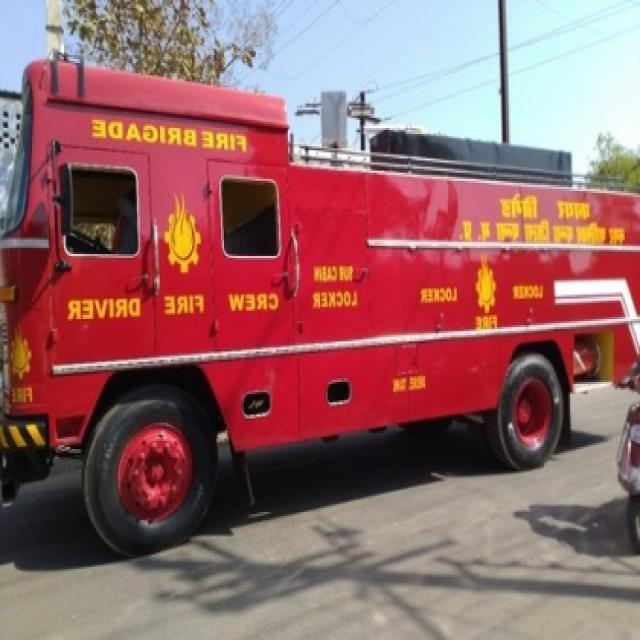emergency: (0, 60, 640, 554)
